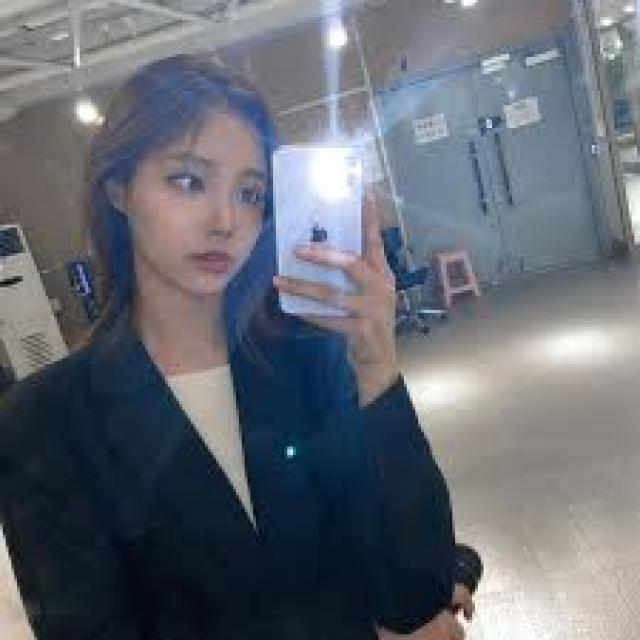phone: (270, 143, 368, 318)
